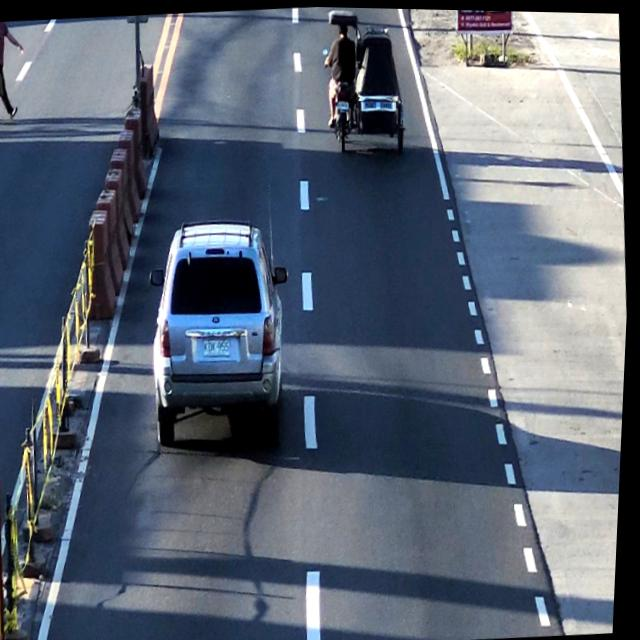Car: (143, 204, 303, 456)
License-Plate: (205, 332, 234, 359), (336, 95, 353, 110)
Tricycle: (316, 6, 410, 161)
